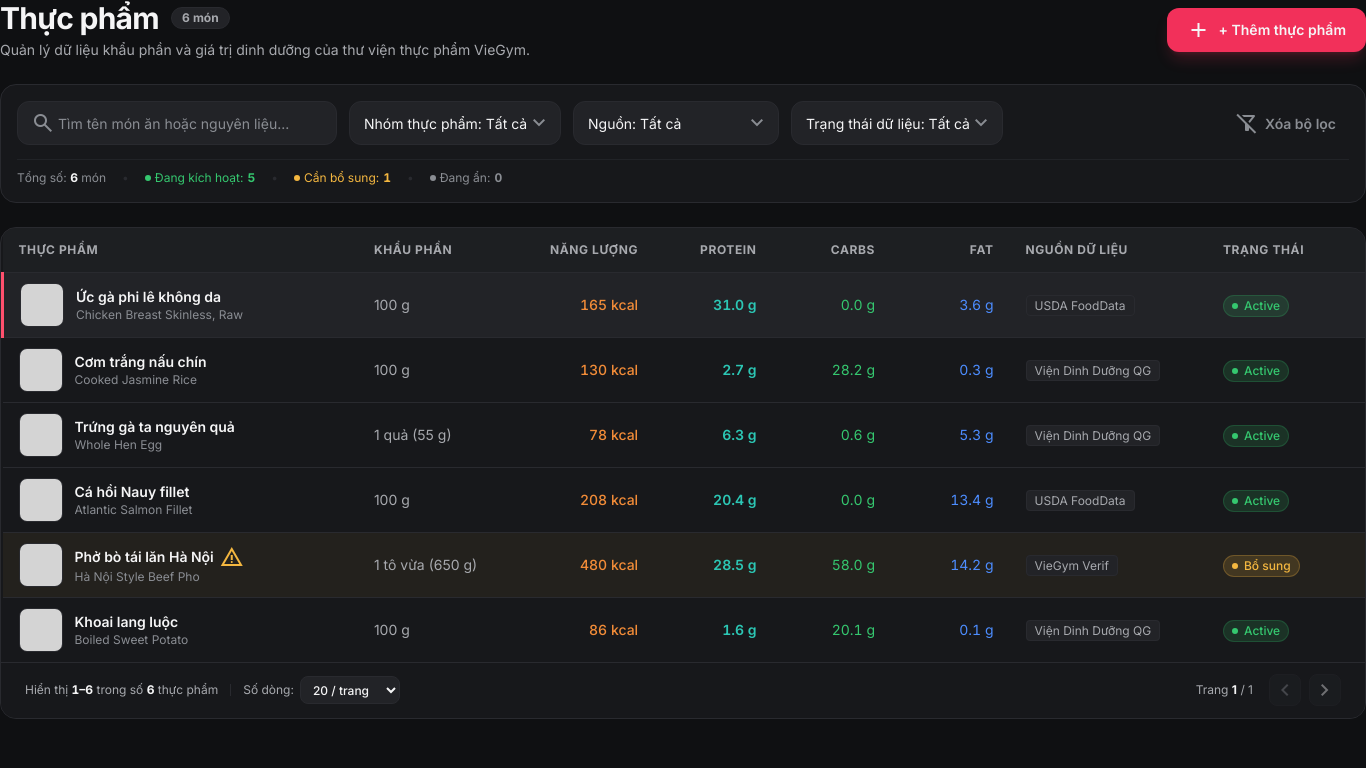
FoodListPage › opens edit modal when clicking a food item
Click the text "Ức gà phi lê không da". click: {"x": 148, "y": 296}
box: x1=76 y1=286 x2=221 y2=307
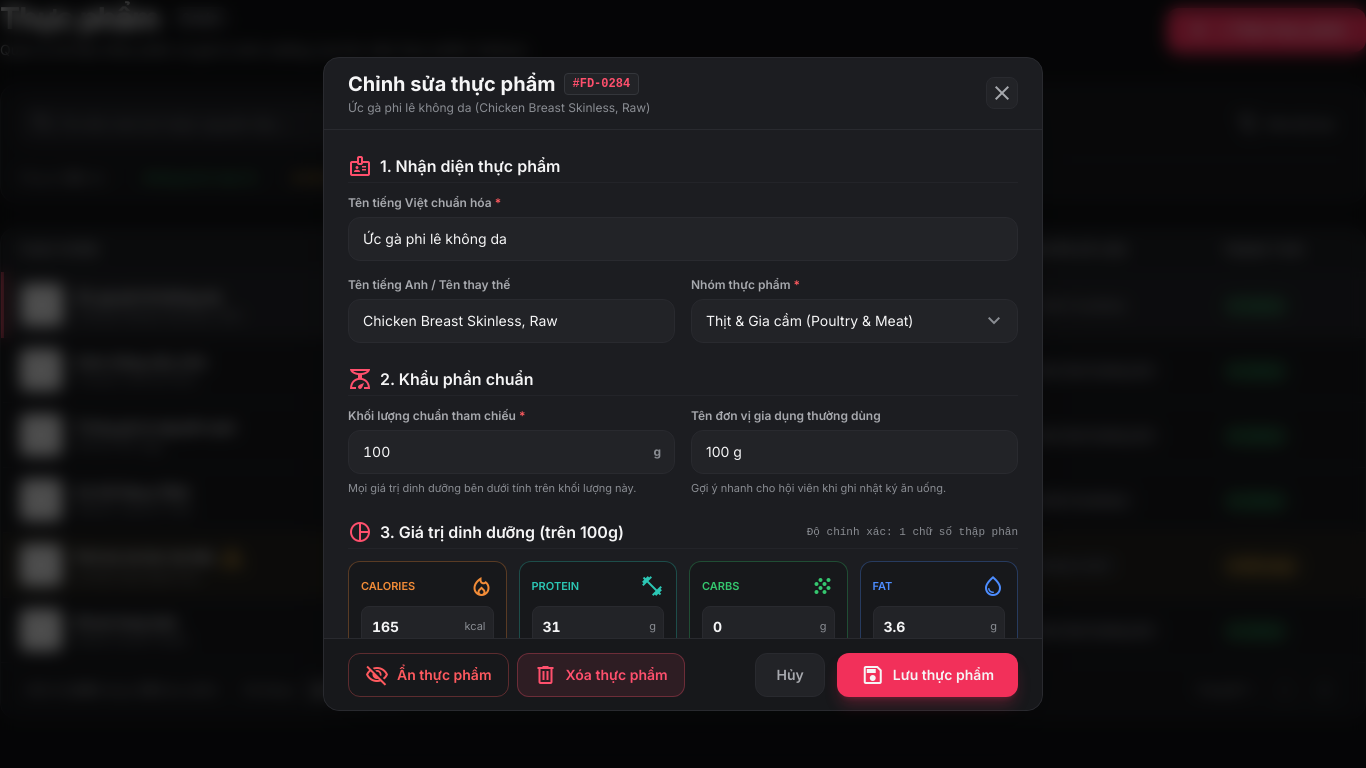
Expected: the heading "Chỉnh sửa thực phẩm" is shown, x1=348 y1=70 x2=556 y2=98
Expected: the field showing "Ức gà phi lê không da" below "Tên tiếng Việt chuẩn hóa" is shown, x1=348 y1=217 x2=1018 y2=261
